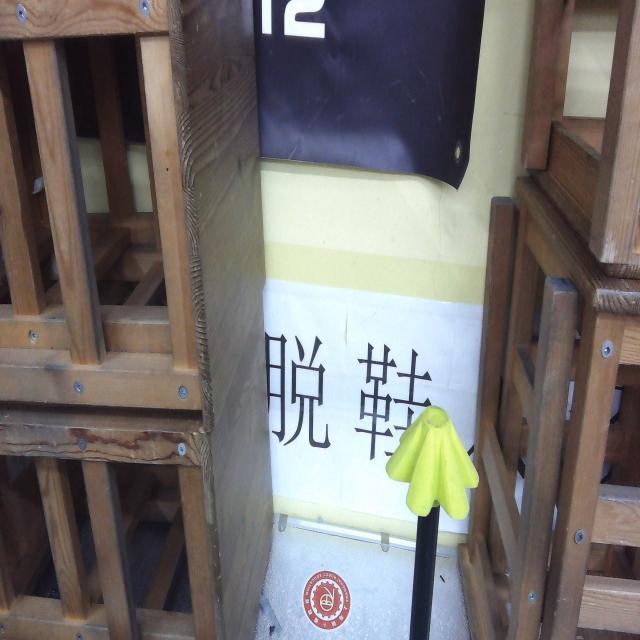Yellow-Stake-Head: (385, 405, 480, 521)
